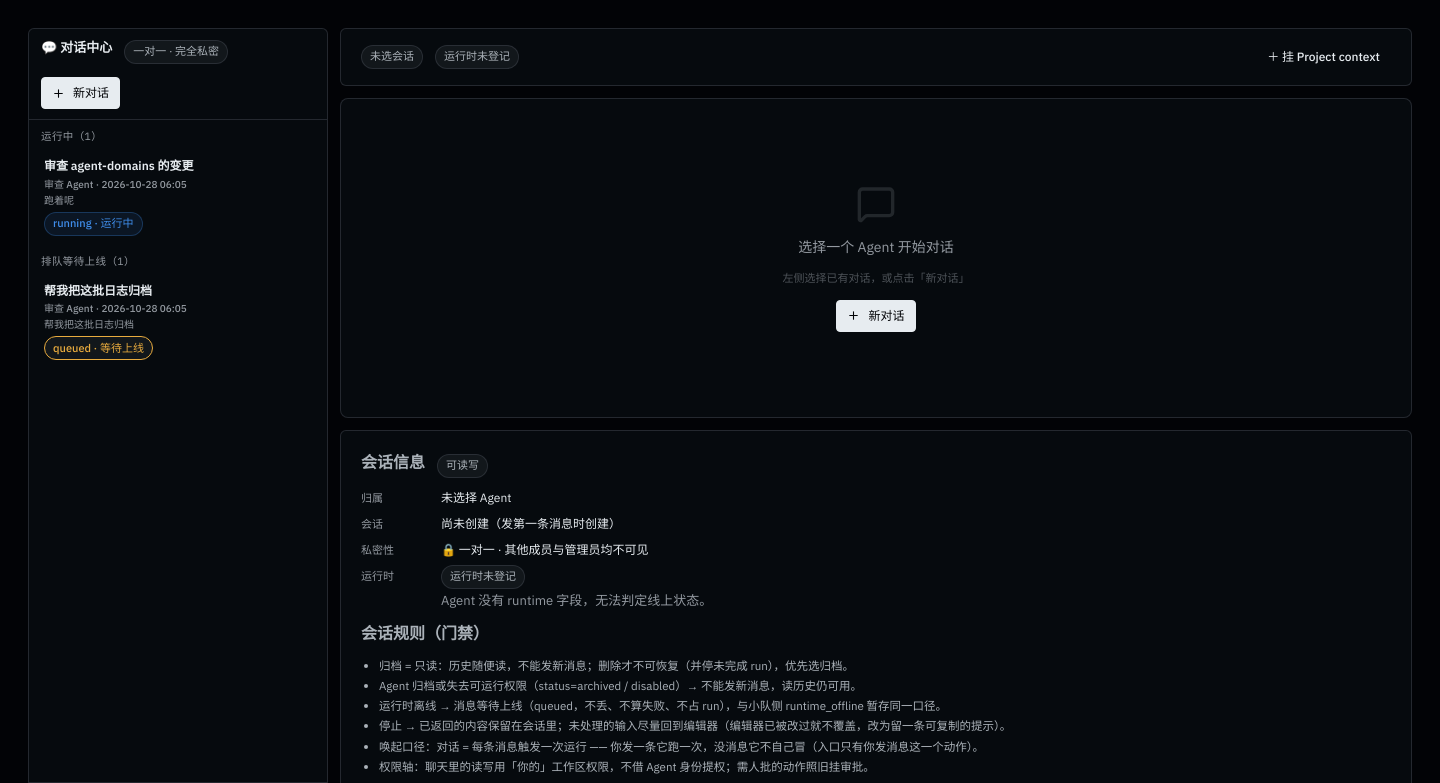
Test: 语义 ②：一条消息 = 一个 run › 每条消息都有 run 标识与 run 状态（queued/running/done/failed）
This screenshot has width=1440, height=783.
Click the button with aria-label "打开会话 审查 agent-domains 的变更".
click(119, 165)  # box [29,149,327,245]
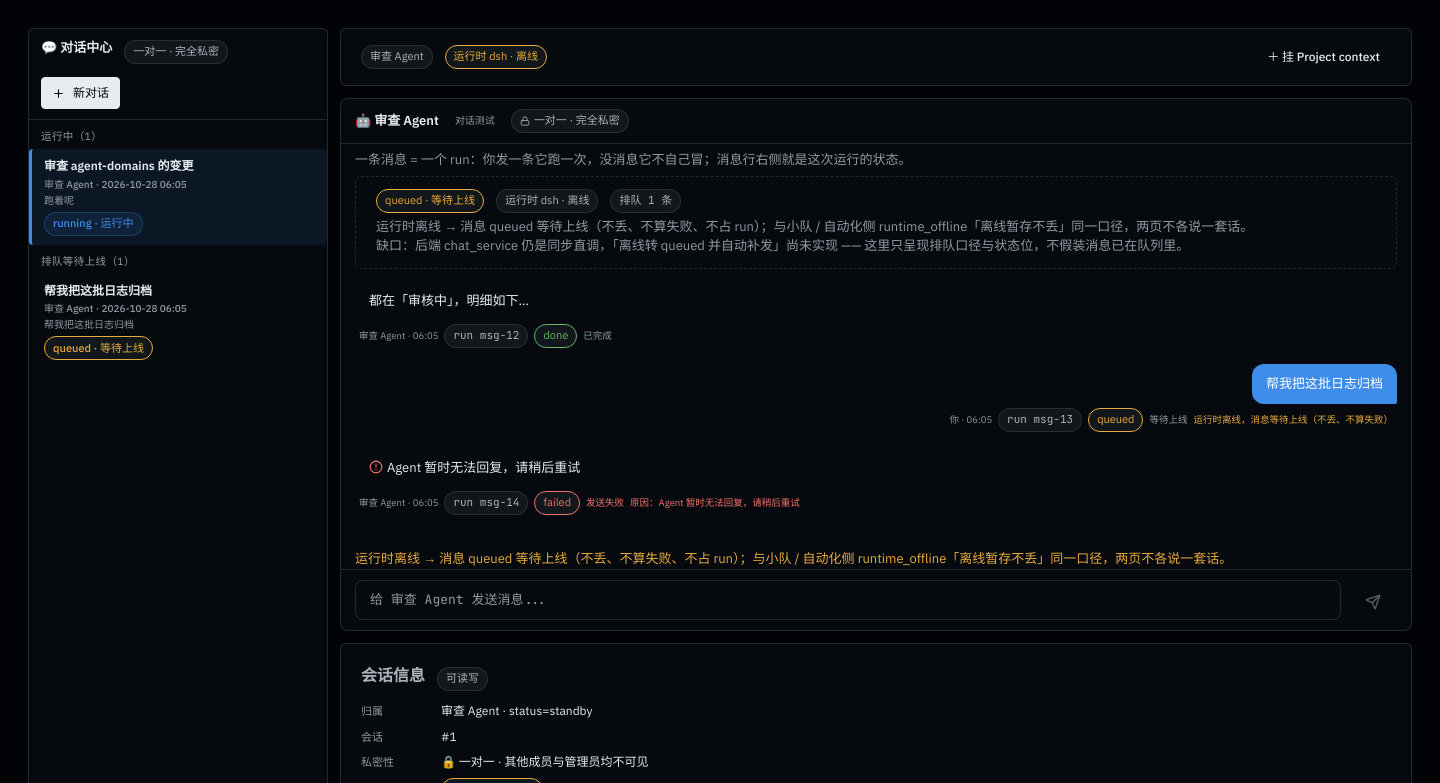
expect the text "run msg-12" is shown: met, box [444,324,528,348]
expect the text "run msg-13" is shown: met, box [998,408,1082,432]
expect the text "run msg-14" is shown: met, box [444,491,528,515]
